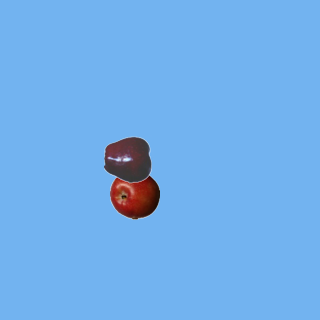Apple Braeburn: (109, 169, 159, 219)
Apple Red Delicious: (103, 134, 153, 184)
